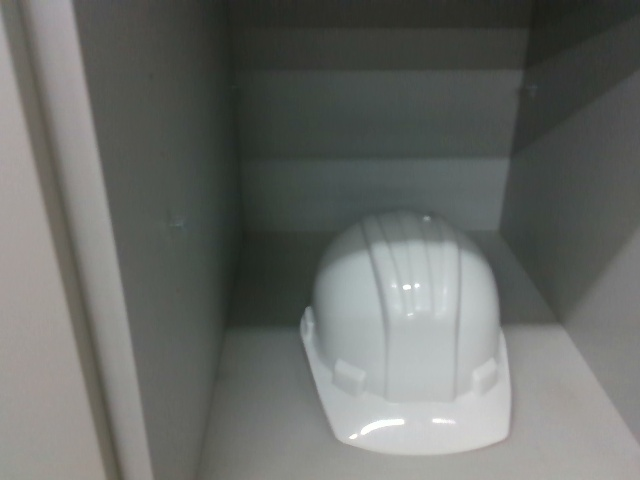helmet: (294, 209, 513, 453)
